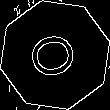O_E: (25, 28, 85, 82)
